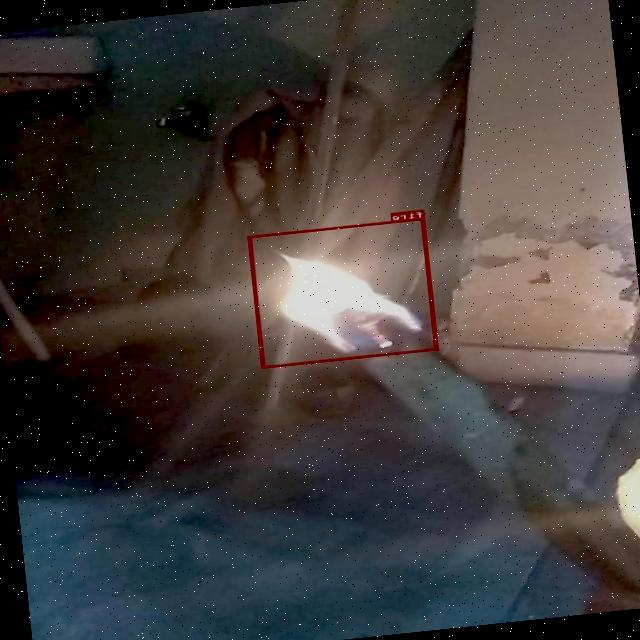fire: (247, 216, 438, 368)
